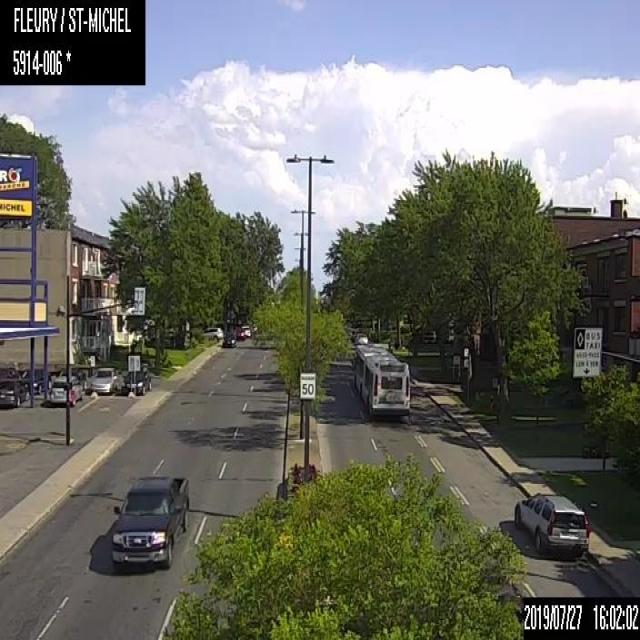bus: (348, 341, 410, 413)
vehicle: (108, 475, 189, 569), (513, 491, 589, 556), (45, 374, 84, 406), (120, 362, 151, 395), (0, 377, 30, 411), (87, 364, 119, 394), (23, 366, 48, 390), (222, 331, 236, 347), (233, 326, 245, 342), (240, 323, 251, 338)
